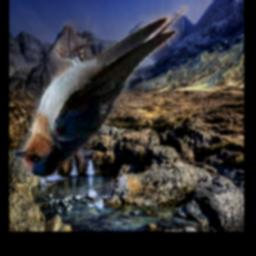Swallow: (14, 5, 190, 177)
